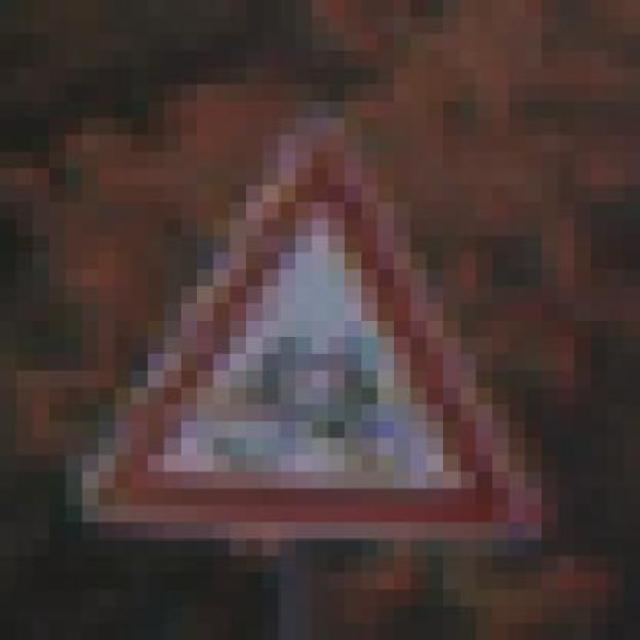CYCLE ROUTE AHEAD WARNING: (49, 118, 558, 556)
